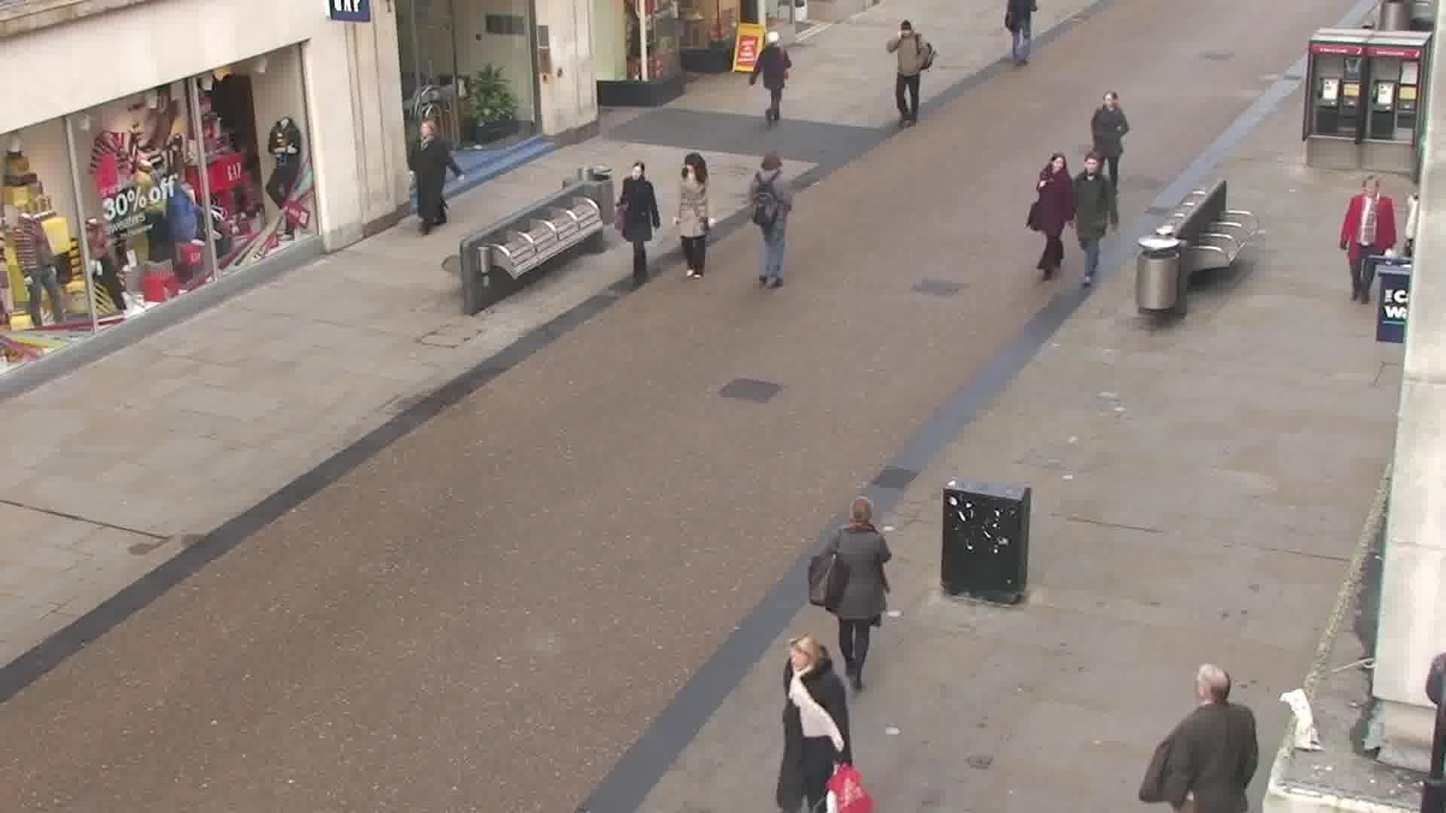car: (452, 175, 613, 317)
